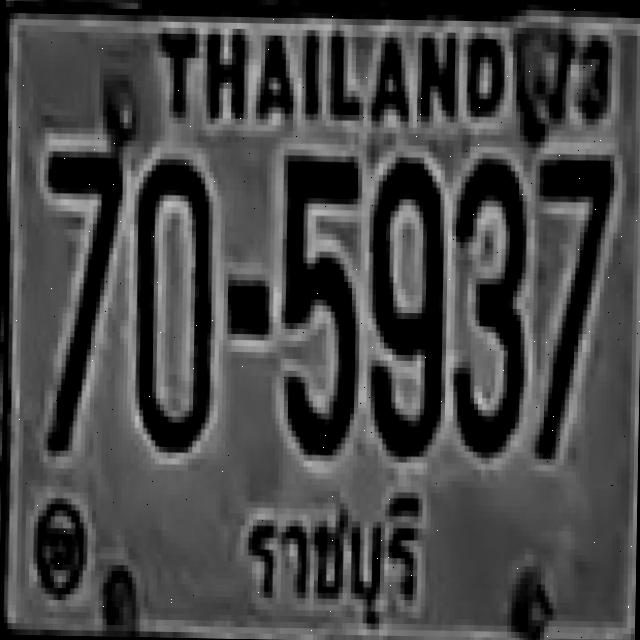0: (132, 152, 212, 446)
3: (448, 152, 523, 452)
5: (278, 149, 358, 449)
7: (530, 148, 610, 454), (39, 145, 119, 445), (40, 145, 119, 397), (41, 144, 118, 350)
9: (366, 150, 440, 450)
Ratchaburi: (222, 478, 448, 636)
